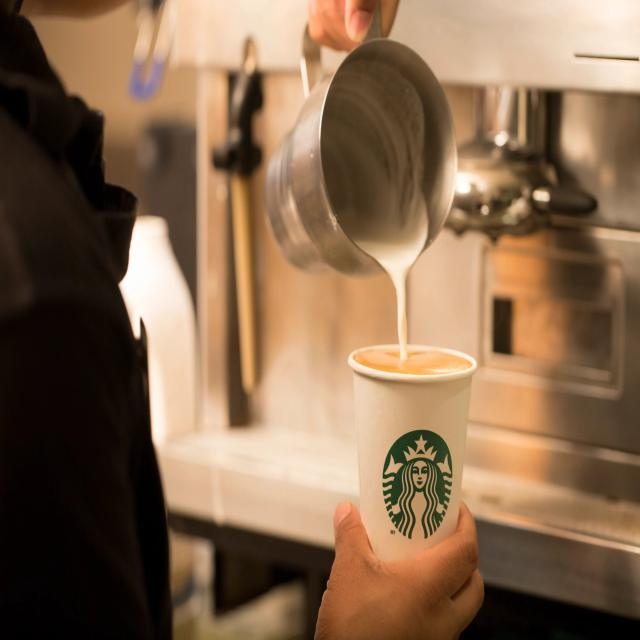starbucks: (382, 426, 454, 542)
